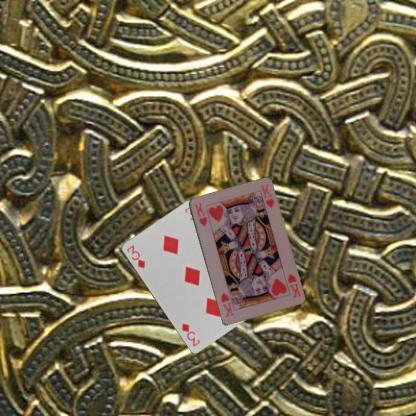3d: (124, 242, 146, 270)
Kh: (284, 271, 302, 299), (192, 200, 209, 227)
